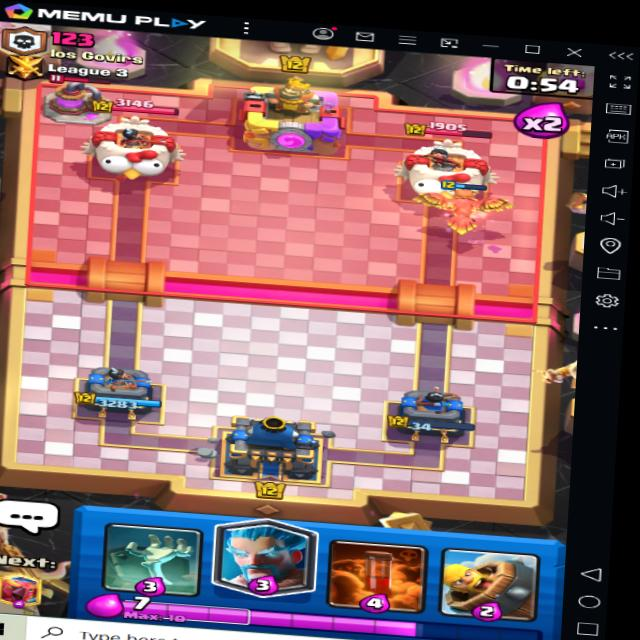elixir-collector: (41, 76, 121, 127)
